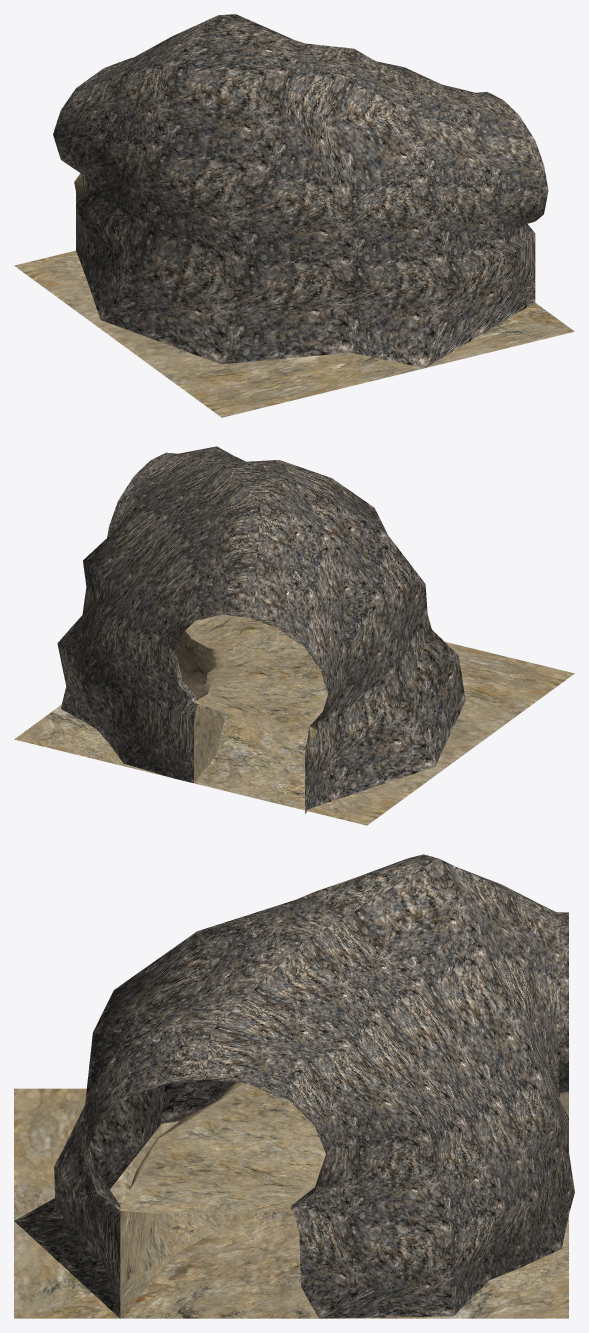
The model's file is pir_m_are_cav_curveWide_ravine.fbx.
3 views of the same model, one above another, from view 1: azimuth 30°, elevation 25°; view 2: azimuth 150°, elevation 25°; view 3: azimuth 270°, elevation 25° (orthographic). The views are drawn at different scales.
Parts seen in each view (by area): view 1: standardCurveWide_left_wall, abyss; view 2: standardCurveWide_left_wall, abyss, standardCurveWide_left_floor, standardCurveWide_left_floor1; view 3: standardCurveWide_left_wall, abyss, standardCurveWide_left_floor, standardCurveWide_left_floor1.
Part boxes in pixels (x1,y1,x2,y2): standardCurveWide_left_wall: (53,14,548,367); abyss: (14,250,574,417); standardCurveWide_left_wall: (57,446,465,810); abyss: (14,642,574,825); standardCurveWide_left_floor: (189,614,327,729); standardCurveWide_left_floor1: (175,627,323,813); standardCurveWide_left_wall: (14,854,574,1318); abyss: (14,1088,568,1318); standardCurveWide_left_floor: (120,1083,325,1213); standardCurveWide_left_floor1: (120,1083,568,1317).
Size of the model in its own units: 22548 by 15340 by 23172.
Materials: 2 (2 with a texture image).
